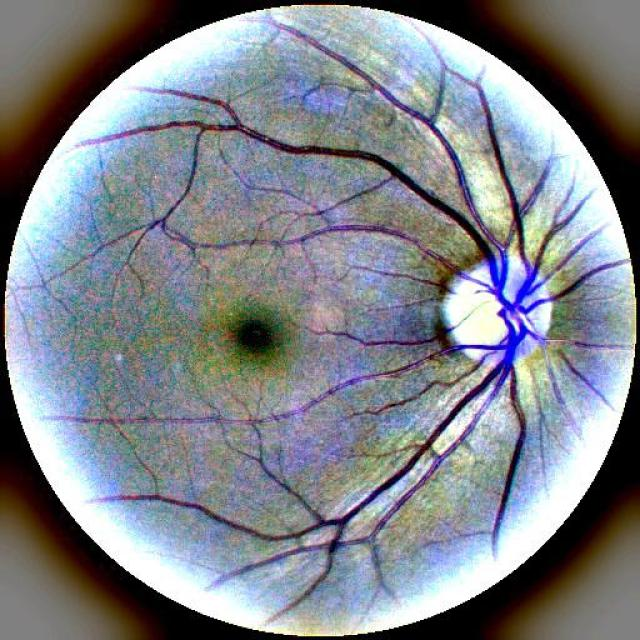Macula: (204, 296, 309, 387)
Nerves: (115, 323, 524, 542), (173, 105, 522, 326)
Optic Disk: (425, 232, 579, 395)
